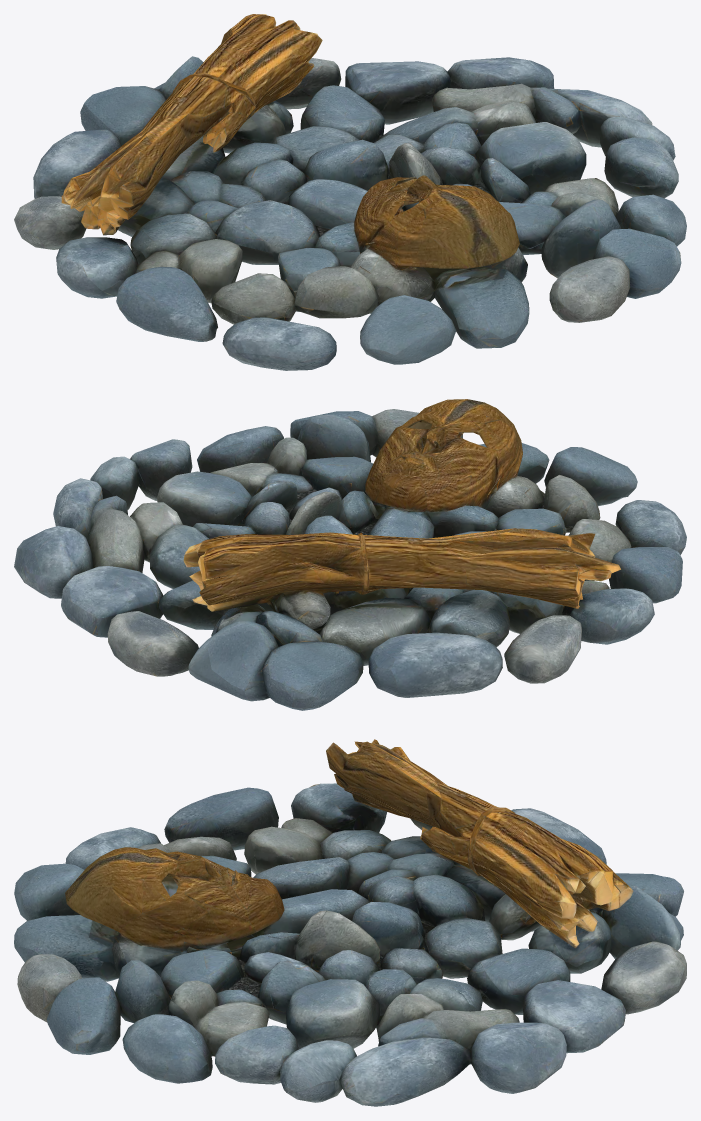
File: firepit.glb
The picture shows the model from 3 angles, top to bottom: view 1: azimuth 30°, elevation 25°; view 2: azimuth 150°, elevation 25°; view 3: azimuth 270°, elevation 25°; orthographic projection. The views are drawn at different scales.
Parts seen in each view (by area): view 1: Mesh_0; view 2: Mesh_0; view 3: Mesh_0.
Part boxes in pixels (x1,y1,x2,y2): Mesh_0: (14,14,686,370); Mesh_0: (14,399,686,710); Mesh_0: (14,739,686,1106).
Bounding box in the file's own units: 1.9 × 0.3828 × 1.83.
Materials: 1 (1 with a texture image).
